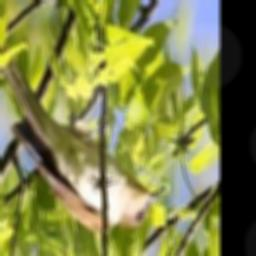Cuckoo: (0, 36, 166, 231)
